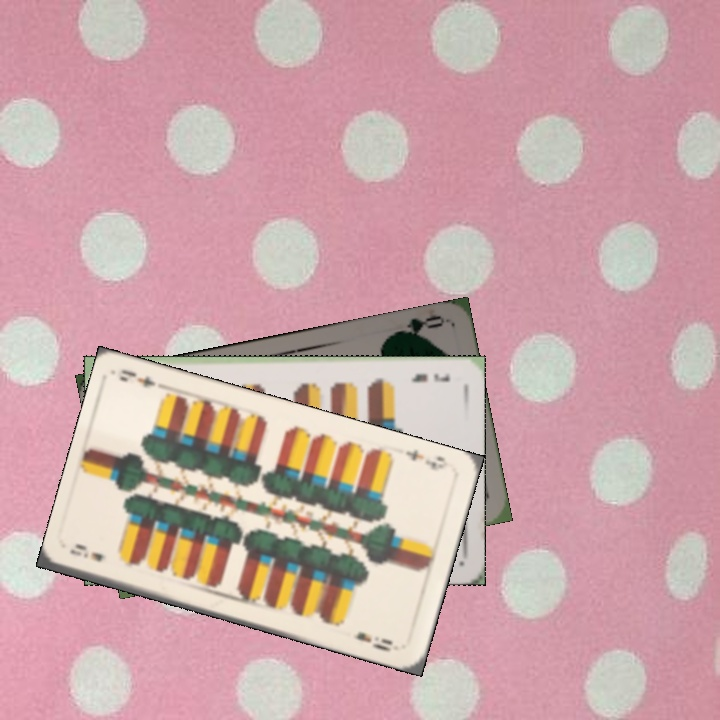E7: (407, 369, 452, 385)
E9: (401, 445, 451, 473), (66, 540, 108, 565)
GO: (388, 311, 446, 341)
